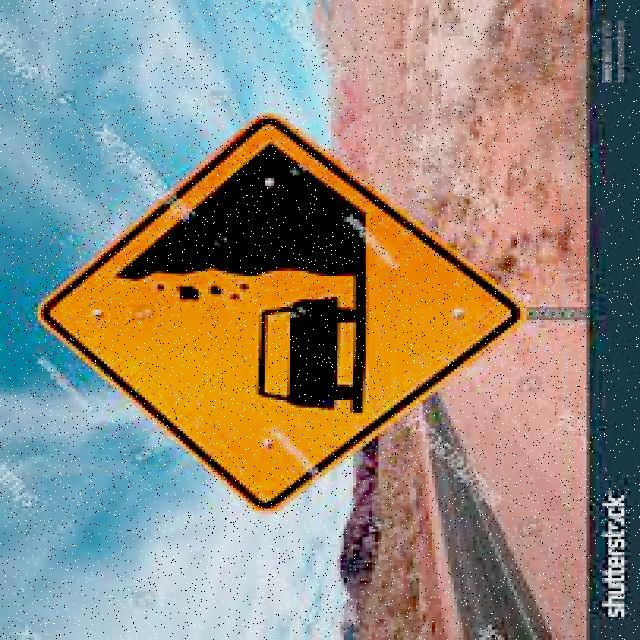Traffic sign: (35, 110, 528, 518)
